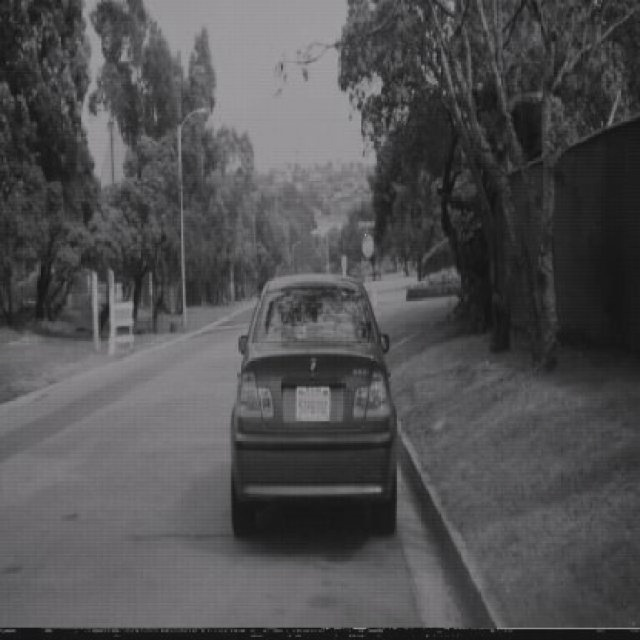stop: (360, 232, 375, 259)
